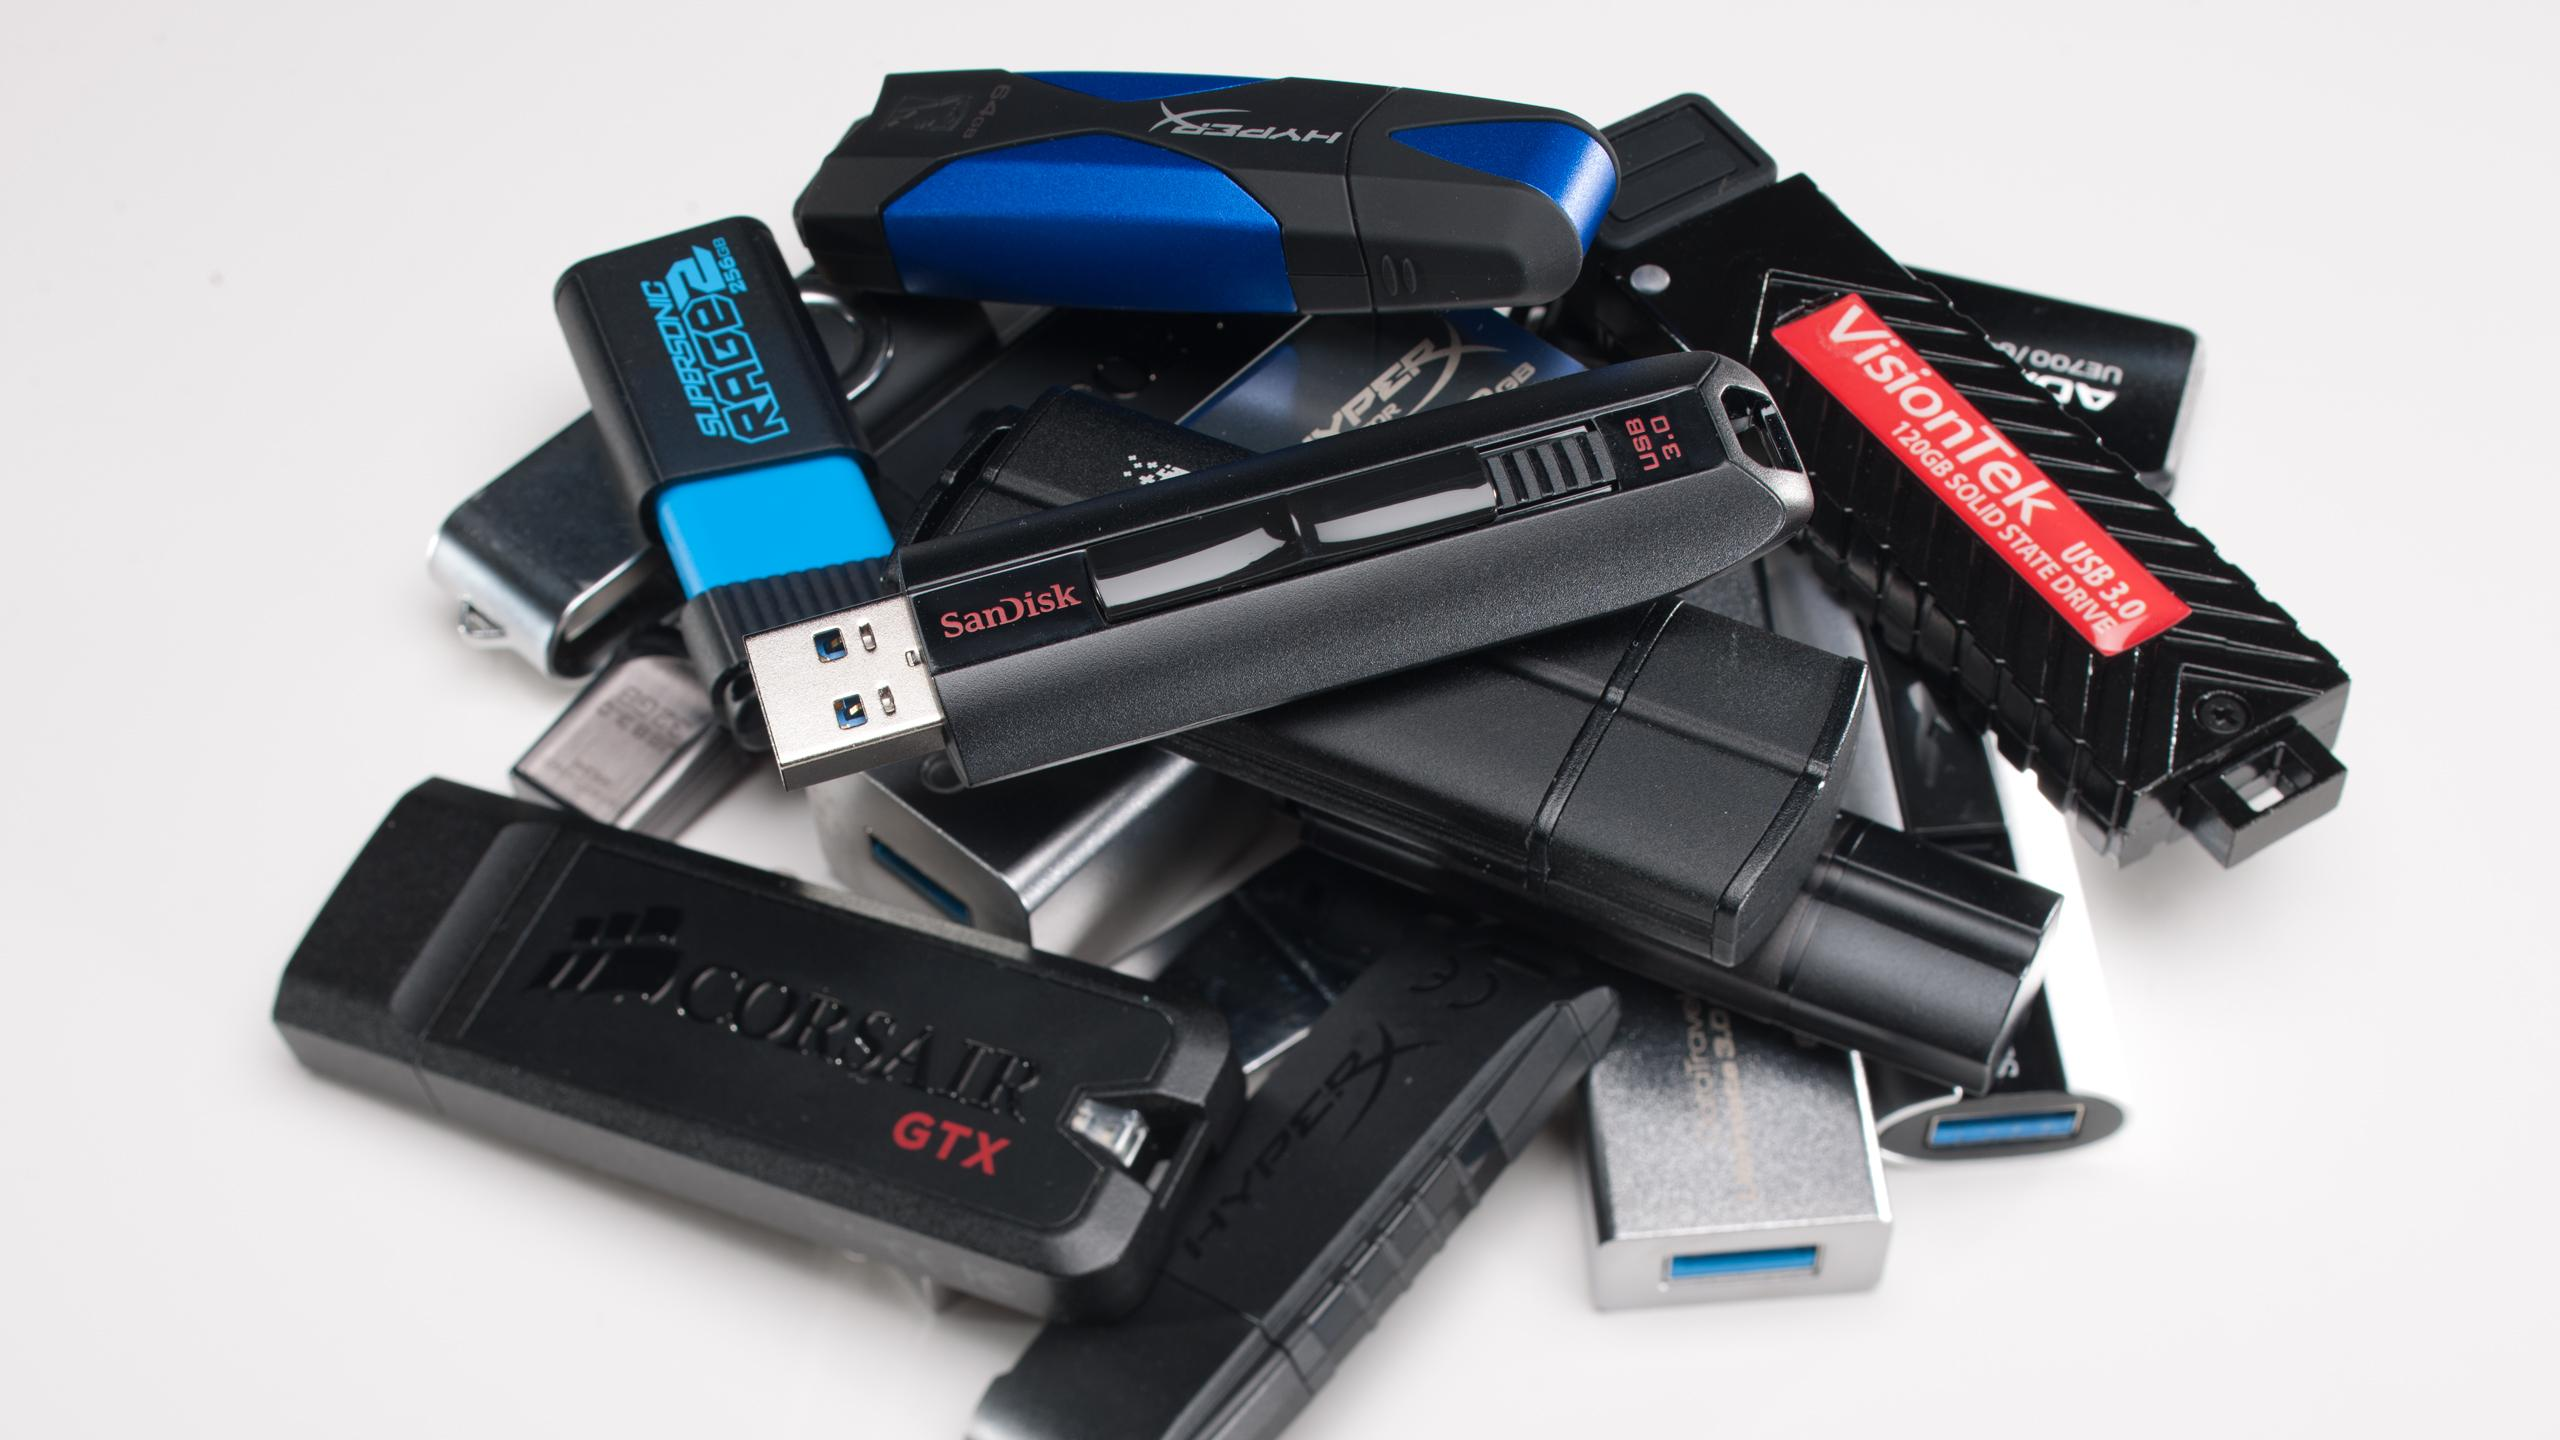USB Flash Drive: (745, 353, 1815, 789)
